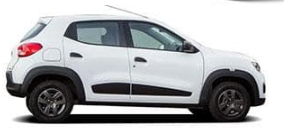car: (5, 10, 268, 124)
